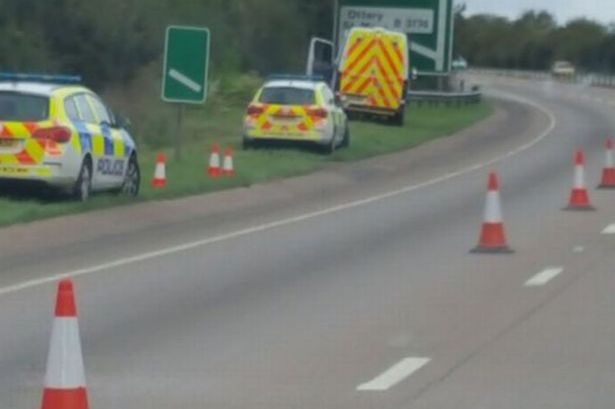cone: (26, 280, 102, 409), (461, 170, 519, 256), (559, 151, 598, 211), (593, 139, 615, 190), (148, 153, 169, 188), (203, 143, 221, 179), (220, 148, 236, 176)
